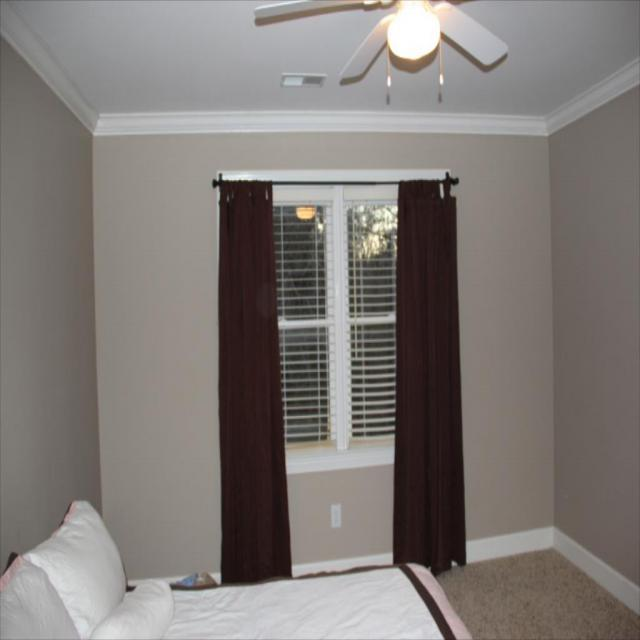fan_off: (249, 0, 514, 79)
